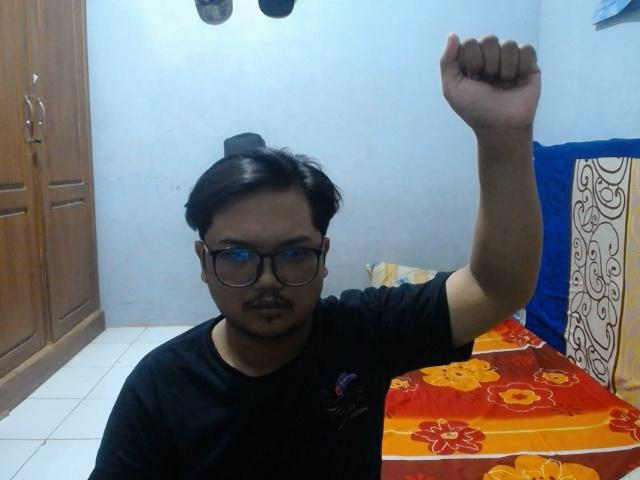Grab: (439, 27, 543, 143)
